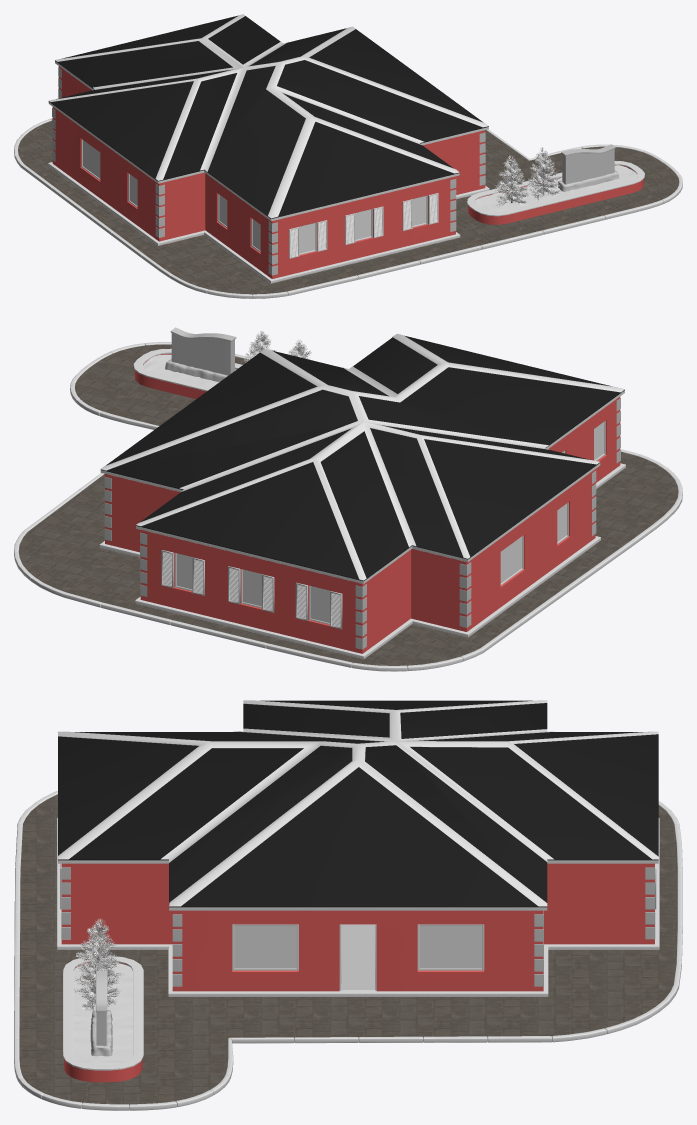
3 views of the same model, one above another, from view 1: azimuth 30°, elevation 25°; view 2: azimuth 150°, elevation 25°; view 3: azimuth 270°, elevation 25° (orthographic). The views are drawn at different scales.
Visible parts, largest first — view 1: Roof, Walls, Plot, Roof Trim, Curb, Brick Planter, Windows, Base Slab, Shudders, Column Decor, Soil, Stone Sign (+5 smaller); view 2: Roof, Walls, Plot, Roof Trim, Curb, Base Slab, Windows, Column Decor, Shudders.001, Stone Sign, Roof Overhangs, Brick Planter (+3 smaller); view 3: Roof, Plot, Walls, Roof Trim, Curb, Base Slab, Windows, Brick Planter, Soil, Column Decor, Roof Overhangs, leaves (+4 smaller).
Boxes of the visible parts, x1,y1,x2,y2 form: Roof: [49, 15, 488, 218]; Walls: [52, 66, 485, 278]; Plot: [18, 120, 678, 294]; Roof Trim: [49, 14, 488, 218]; Curb: [14, 118, 682, 298]; Brick Planter: [467, 161, 644, 224]; Windows: [83, 140, 426, 253]; Base Slab: [48, 162, 489, 283]; Shudders: [289, 193, 438, 258]; Column Decor: [52, 67, 485, 275]; Soil: [475, 165, 637, 211]; Stone Sign: [561, 144, 615, 184]; Roof: [100, 335, 624, 581]; Walls: [105, 396, 620, 653]; Plot: [18, 344, 678, 665]; Roof Trim: [101, 333, 624, 580]; Curb: [14, 342, 682, 671]; Base Slab: [99, 463, 625, 659]; Windows: [176, 422, 603, 622]; Column Decor: [104, 398, 620, 649]; Shudders.001: [161, 550, 342, 629]; Stone Sign: [170, 327, 236, 375]; Roof Overhangs: [100, 390, 624, 583]; Brick Planter: [133, 348, 242, 398]; Roof: [58, 700, 658, 907]; Plot: [19, 794, 677, 1104]; Walls: [61, 863, 654, 991]; Roof Trim: [57, 700, 658, 906]; Curb: [14, 790, 682, 1110]; Base Slab: [57, 818, 659, 996]; Windows: [234, 925, 481, 968]; Brick Planter: [63, 956, 143, 1082]; Soil: [73, 962, 132, 1064]; Column Decor: [61, 864, 655, 986]; Roof Overhangs: [58, 860, 658, 910]; leaves: [73, 939, 120, 1010].
Size of the model in its own units: 2117 by 481 by 1804.
